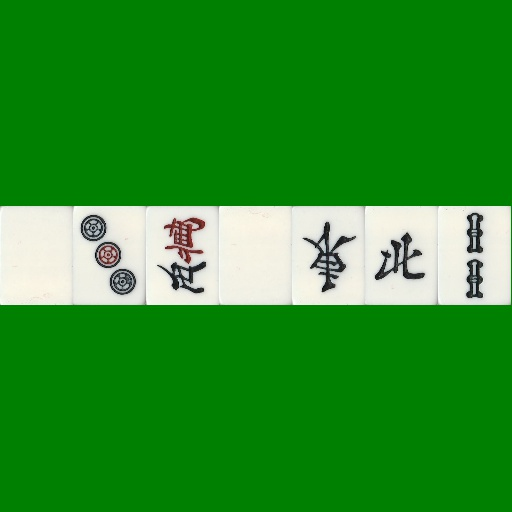2s: (438, 206, 511, 305)
3p: (73, 206, 146, 305)
5m: (146, 206, 219, 305)
east: (292, 206, 365, 305)
north: (365, 206, 438, 305)
white: (0, 206, 73, 305), (219, 206, 292, 305)
